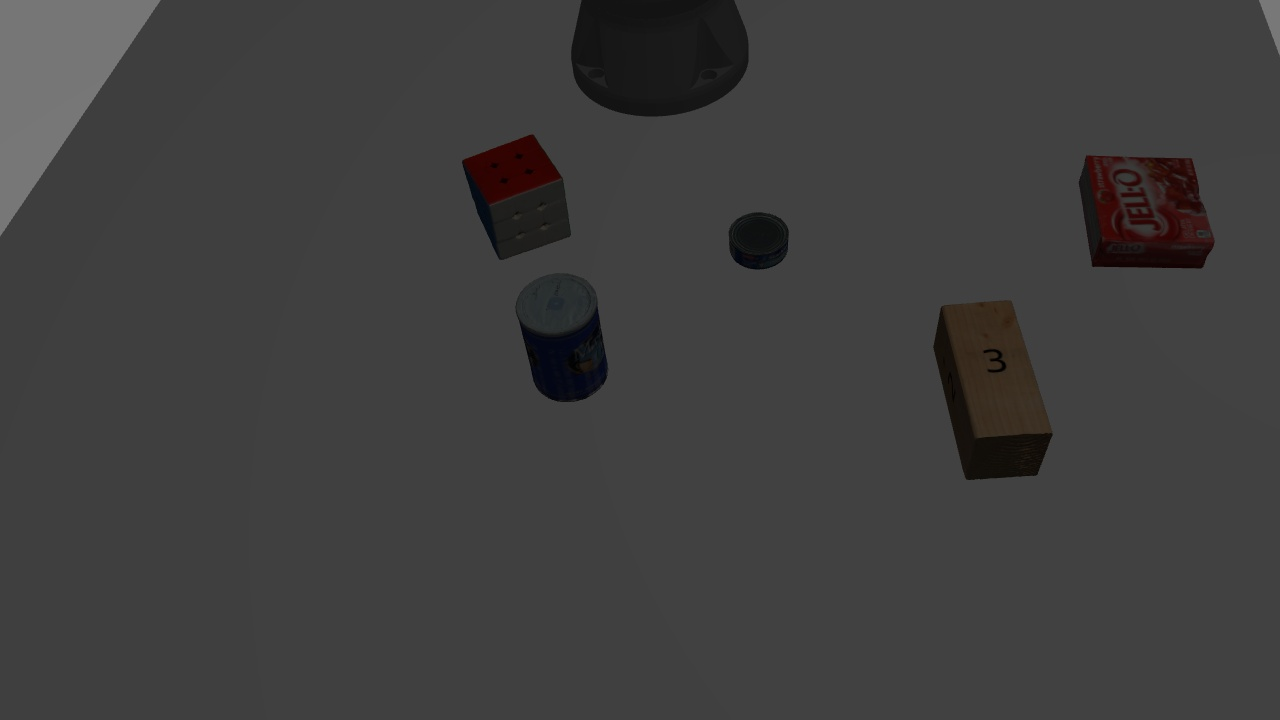gelatin_box: (1072, 147, 1219, 282), (1073, 149, 1160, 266)
master_chef_can: (513, 271, 611, 404)
rubiks_cube: (458, 129, 584, 262)
tuna_fish_can: (725, 209, 792, 278)
wood_block: (931, 295, 1053, 481)
